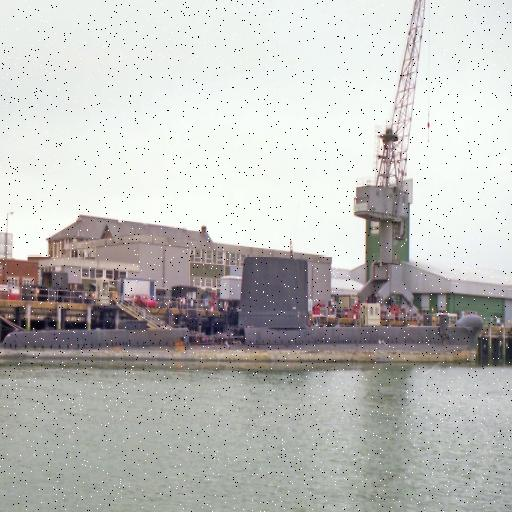submarine: (1, 257, 478, 365)
